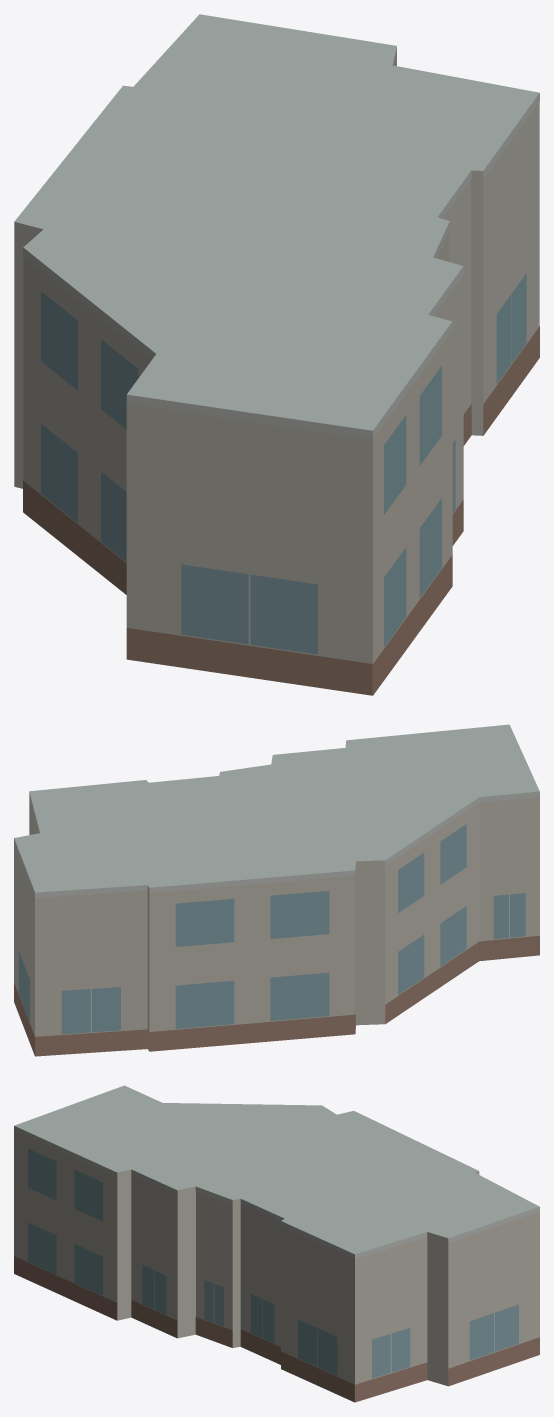
File: survey-upis-32632130.glb
3 renders of one model, top to bottom at view 1: azimuth 30°, elevation 25°; view 2: azimuth 150°, elevation 25°; view 3: azimuth 270°, elevation 25°, orthographic. The views are drawn at different scales.
Parts seen in each view (by area): view 1: survey-upis-32632130.tmp; view 2: survey-upis-32632130.tmp; view 3: survey-upis-32632130.tmp.
Boxes of the visible parts, bbox=[...] form: survey-upis-32632130.tmp: bbox=[14, 14, 539, 695]; survey-upis-32632130.tmp: bbox=[14, 724, 539, 1056]; survey-upis-32632130.tmp: bbox=[14, 1085, 539, 1402].
Bounding box in the file's own units: 18.11 × 7.4 × 23.82.
